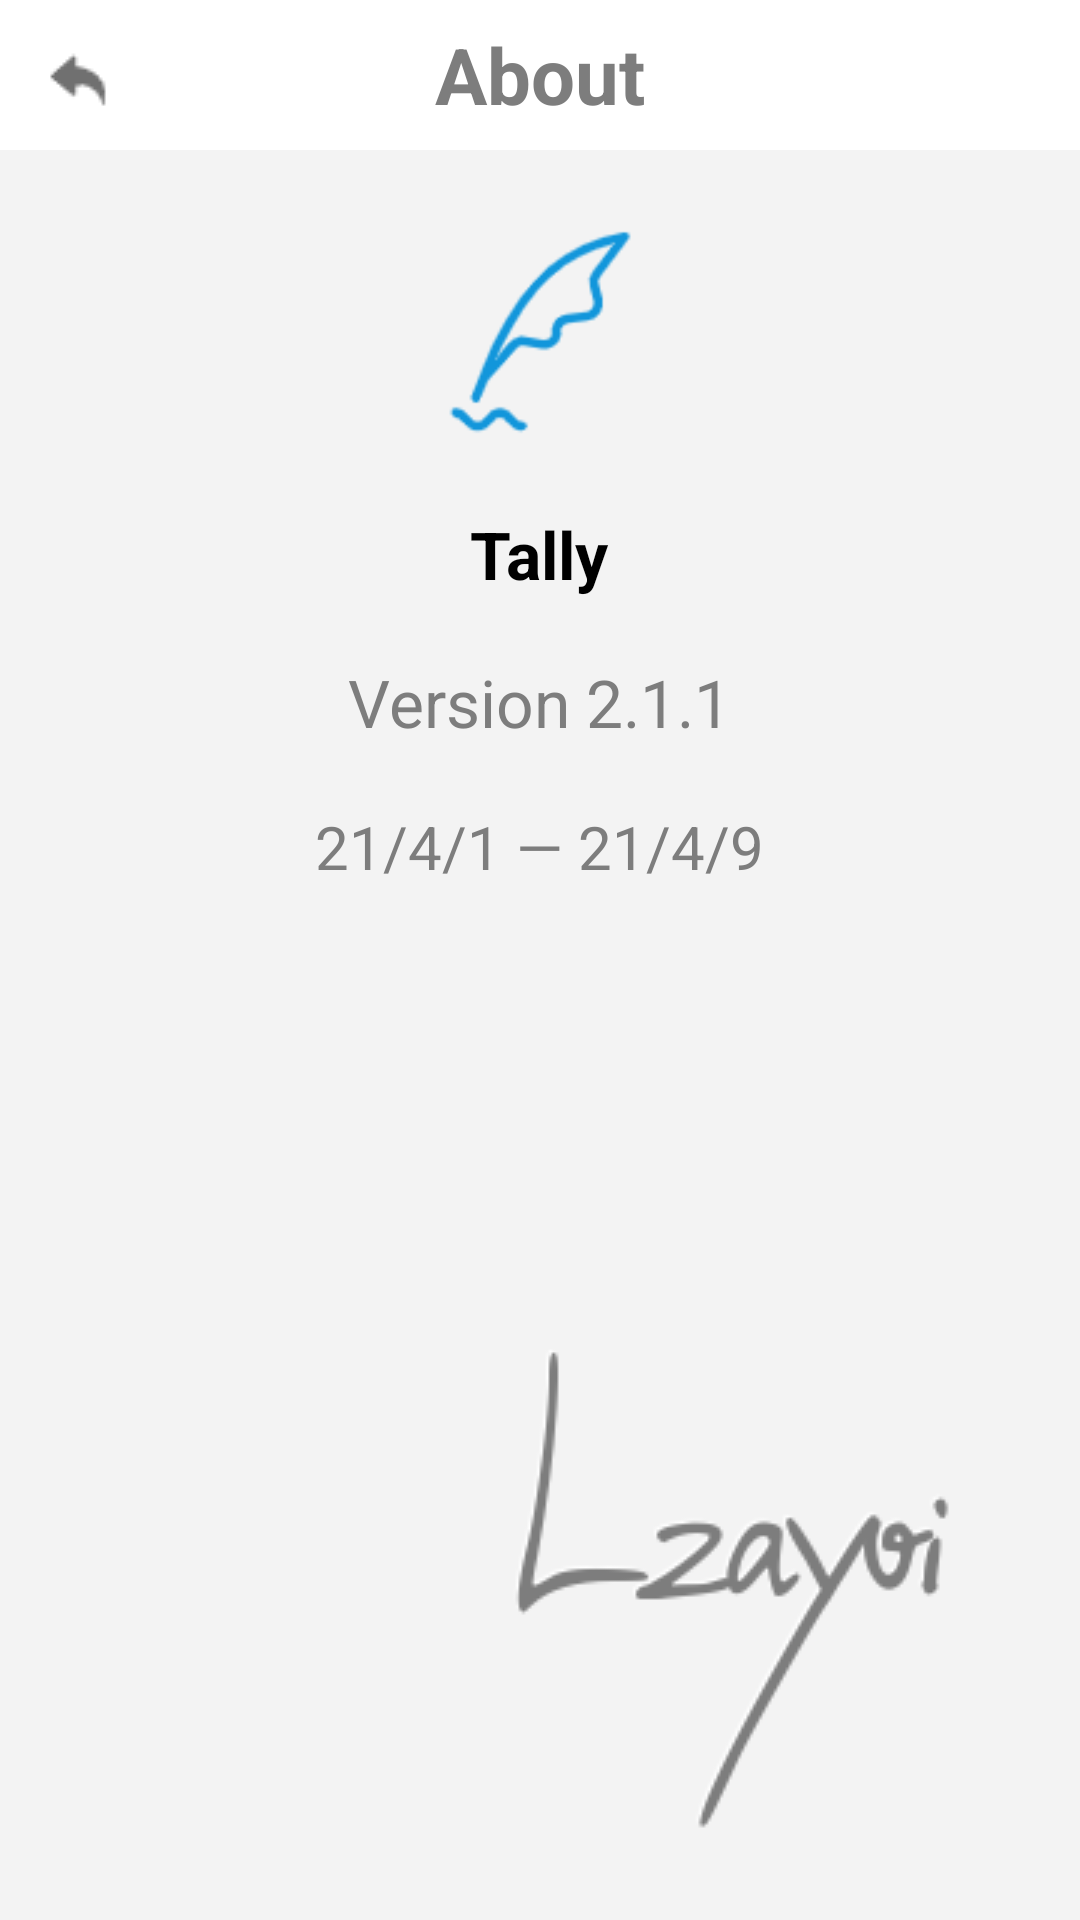

Point at icon controls on the screen. Image size 1080x1920, points as [x,y].
return: [78,80]
